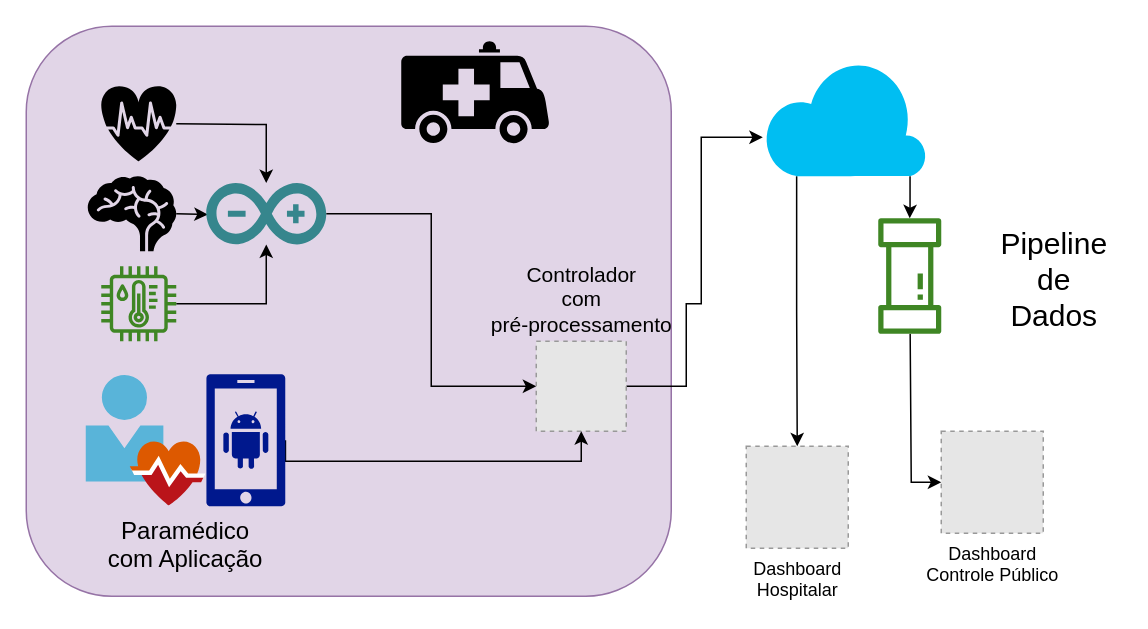
Some shapes in this 1148 by 629 pixel diagram are drawn without their labels. Grey dashed boxes stand in for pictures. The centre of each missing label's shape, as x and y in pixels:
"Ambulancia com Rede Local" belongs at pixel 474 91.
"Things Board" belongs at pixel 845 117.
